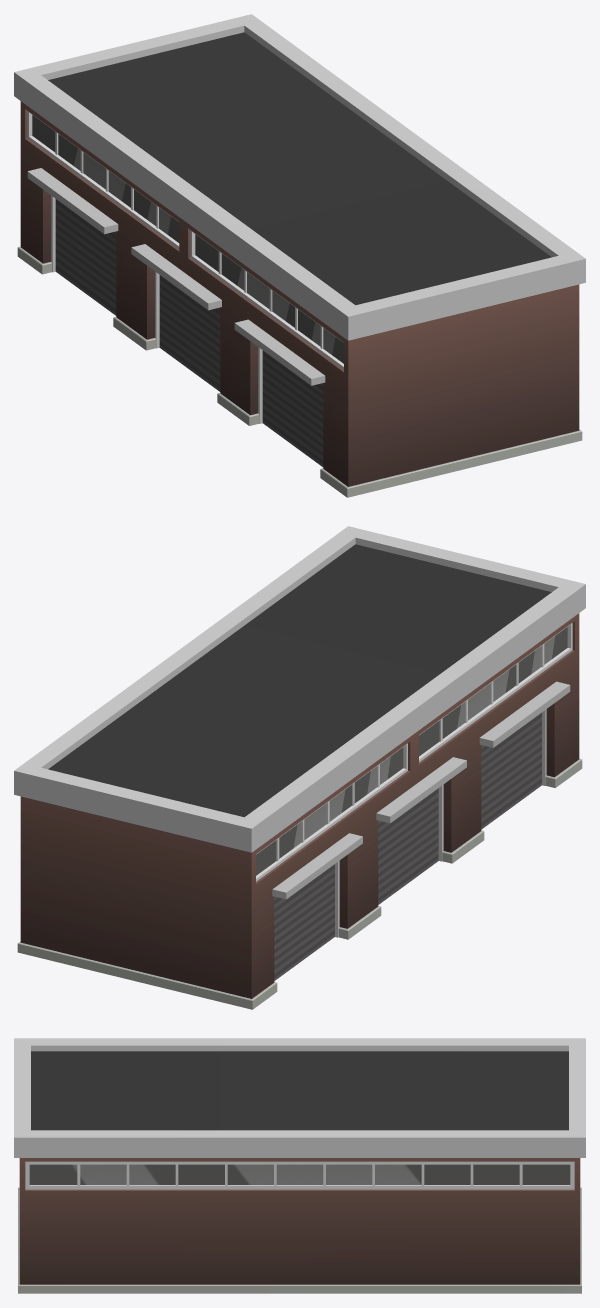
Rendered from Building_Fabric_3_B.fbx.
3 renders of one model, top to bottom at view 1: azimuth 30°, elevation 25°; view 2: azimuth 150°, elevation 25°; view 3: azimuth 270°, elevation 25°, orthographic. The views are drawn at different scales.
Visible parts, largest first — view 1: Building_Fabric_3_B; view 2: Building_Fabric_3_B; view 3: Building_Fabric_3_B.
Part boxes in pixels (box(x1,y1,x2,y2)): Building_Fabric_3_B: box(14, 14, 585, 497); Building_Fabric_3_B: box(14, 526, 585, 1009); Building_Fabric_3_B: box(14, 1038, 585, 1293).
Bounding box in the file's own units: 657 × 462 × 1531.
